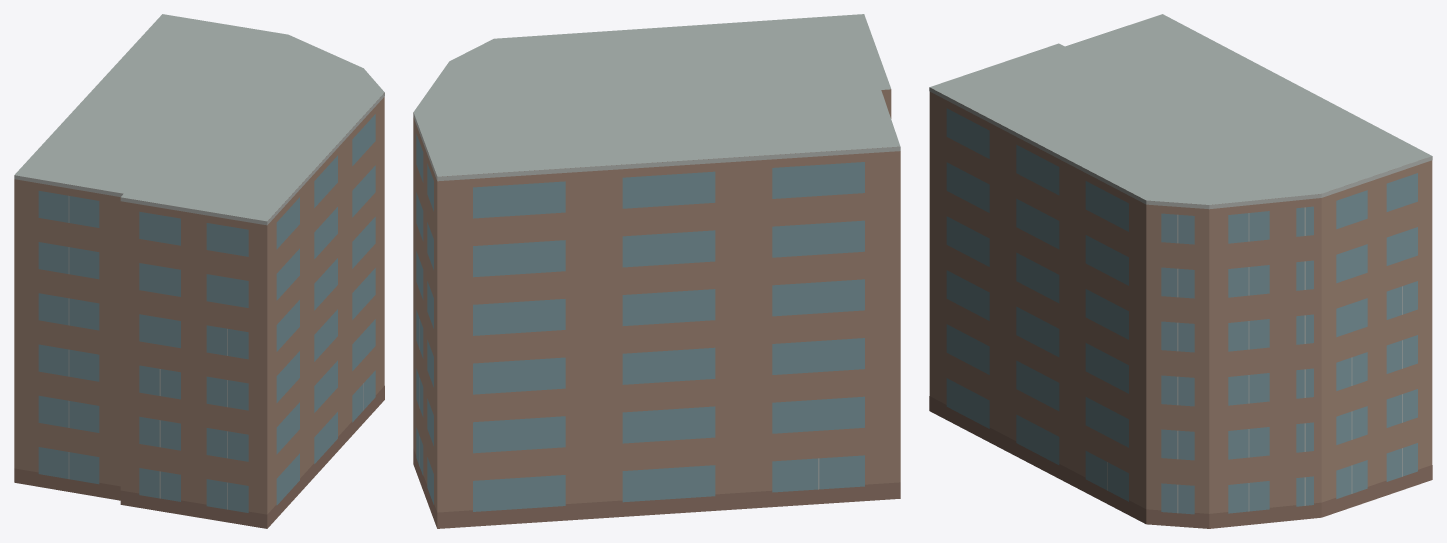
File: survey-upis-32725460.glb
3 views of the same model, side by side, from view 1: azimuth 30°, elevation 25°; view 2: azimuth 150°, elevation 25°; view 3: azimuth 270°, elevation 25° (orthographic). The views are drawn at different scales.
Parts seen in each view (by area): view 1: survey-upis-32725460.tmp; view 2: survey-upis-32725460.tmp; view 3: survey-upis-32725460.tmp.
Boxes of the visible parts, x1,y1,x2,y2 form: survey-upis-32725460.tmp: [14, 14, 384, 528]; survey-upis-32725460.tmp: [413, 14, 900, 528]; survey-upis-32725460.tmp: [929, 14, 1432, 528].
Bounding box in the file's own units: 24.18 × 19.1 × 26.89.
